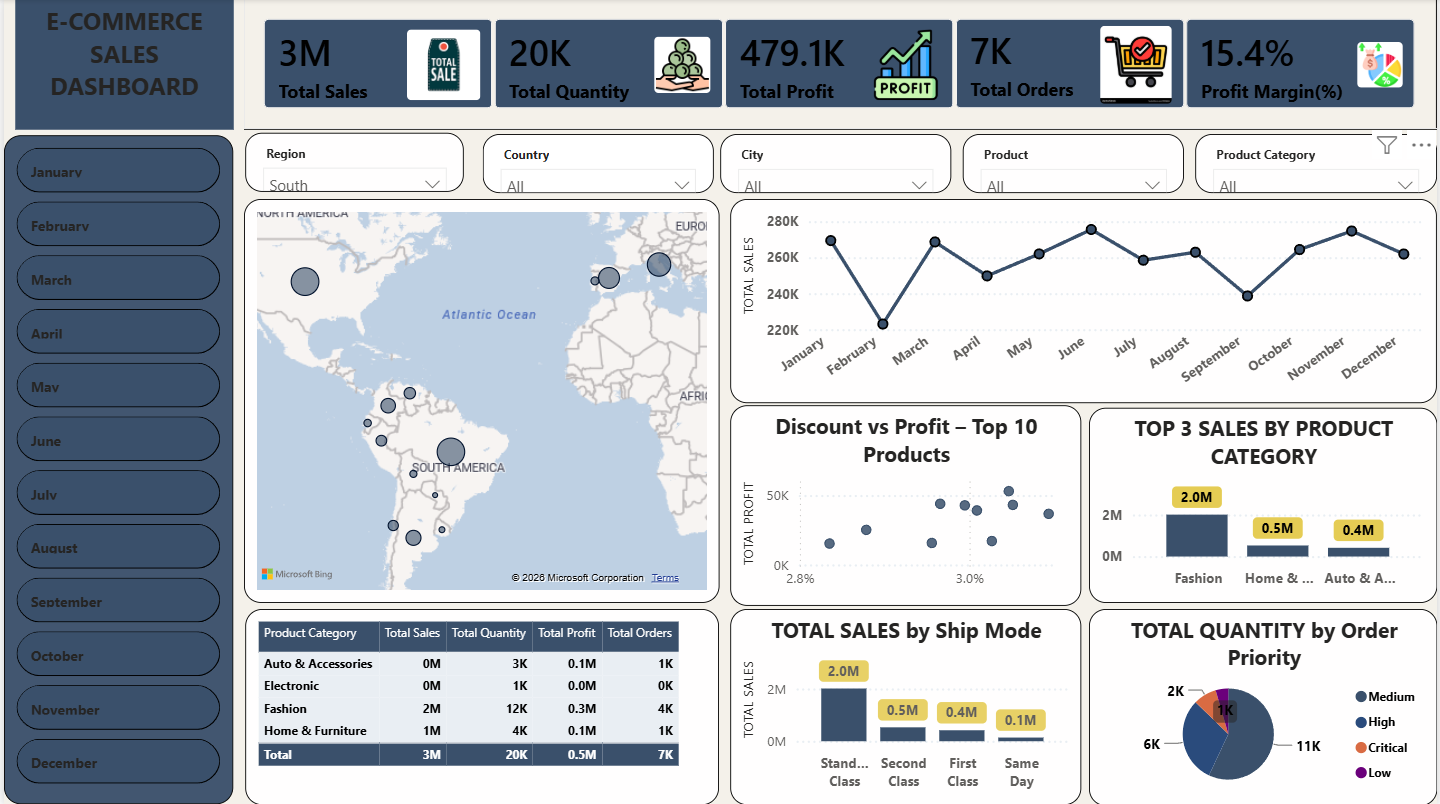

The page's visual inventory and layout, read from the dashboard file:
{"tool":"powerbi","page":{"name":"Page 1","canvas":[1280,720],"ordinal":0},"visuals":[{"type":"textbox","box":[9.6,0,194.9,116.6],"z":0},{"type":"advancedSlicerVisual","fields":{"Values":["E-COMMERCE DATA.Order Date.Variation.Date Hierarchy.Month"]},"box":[0,122.1,204.7,597.7],"z":1000},{"type":"slicer","fields":{"Values":["E-COMMERCE DATA.Region"]},"box":[215.6,120,195.5,53],"z":2000},{"type":"slicer","fields":{"Values":["E-COMMERCE DATA.Country"]},"box":[427.5,120.1,206.2,52.9],"z":3000},{"type":"slicer","fields":{"Values":["E-COMMERCE DATA.City"]},"box":[639.5,120.1,206.1,53],"z":4000},{"type":"slicer","fields":{"Values":["E-COMMERCE DATA.Product"]},"box":[856.2,120.1,197.8,52.9],"z":5000},{"type":"columnChart","fields":{"Category":["E-COMMERCE DATA.Ship Mode"],"Y":["E-COMMERCE DATA.TOTAL SALES"]},"box":[649.2,544.7,313.5,175.5],"z":6000},{"type":"pieChart","fields":{"Category":["E-COMMERCE DATA.Order Priority"],"Y":["E-COMMERCE DATA.TOTAL QUANTITY"]},"box":[968.8,544.8,311.5,175.6],"z":7000},{"type":"lineChart","fields":{"Category":["E-COMMERCE DATA.Order Date.Variation.Date Hierarchy.Month","E-COMMERCE DATA.Order Date.Variation.Date Hierarchy.Day"],"Y":["E-COMMERCE DATA.TOTAL SALES"]},"box":[649.2,178.3,631.1,182.5],"z":8000},{"type":"tableEx","fields":{"Values":["E-COMMERCE DATA.Product Category","E-COMMERCE DATA.TOTAL SALES","E-COMMERCE DATA.TOTAL QUANTITY","E-COMMERCE DATA.TOTAL PROFIT","E-COMMERCE DATA.TOTAL ORDERS"]},"box":[215.9,544.7,423.5,175.5],"z":9000},{"type":"clusteredColumnChart","title":"TOP 3 SALES BY PRODUCT CATEGORY ","fields":{"Category":["E-COMMERCE DATA.Product Category"],"Y":["E-COMMERCE DATA.TOTAL SALES"]},"box":[969.3,365.1,310.9,174.3],"z":10000},{"type":"map","fields":{"Category":["E-COMMERCE DATA.Country"],"Size":["CountNonNull(E-COMMERCE DATA.City)"]},"box":[214.5,178.3,424.9,360.8],"z":12000},{"type":"slicer","fields":{"Values":["E-COMMERCE DATA.Product Category"]},"box":[1064.7,120.1,215.9,52.9],"z":13000},{"type":"scatterChart","title":"Discount vs Profit – Top 10 Products","fields":{"Category":["E-COMMERCE DATA.Product"],"X":["E-COMMERCE DATA.AVERAGE DISCOUNT"],"Y":["E-COMMERCE DATA.TOTAL PROFIT"]},"box":[649,362.8,313.3,179],"z":14000},{"type":"cardVisual","fields":{"Data":["E-COMMERCE DATA.TOTAL SALES","E-COMMERCE DATA.TOTAL QUANTITY","E-COMMERCE DATA.TOTAL PROFIT","E-COMMERCE DATA.TOTAL ORDERS","E-COMMERCE DATA.PROFIT MARGIN %"]},"box":[214.4,0,1065.9,116.6],"z":15000}]}

Visuals, with their boxes in screenshot pixels (x1, y1, x2, y2), scaled from the page's 1280x720 canvas onto the 1440x804 screenshot:
textbox: <region>11, 0, 230, 130</region>
advancedSlicerVisual - E-COMMERCE DATA.Order Date.Variation.Date Hierarchy.Month: <region>0, 136, 230, 803</region>
slicer - E-COMMERCE DATA.Region: <region>243, 134, 462, 193</region>
slicer - E-COMMERCE DATA.Country: <region>481, 134, 713, 193</region>
slicer - E-COMMERCE DATA.City: <region>719, 134, 951, 193</region>
slicer - E-COMMERCE DATA.Product: <region>963, 134, 1186, 193</region>
columnChart - E-COMMERCE DATA.Ship Mode x E-COMMERCE DATA.TOTAL SALES: <region>730, 608, 1083, 803</region>
pieChart - E-COMMERCE DATA.Order Priority x E-COMMERCE DATA.TOTAL QUANTITY: <region>1090, 608, 1439, 803</region>
lineChart - E-COMMERCE DATA.Order Date.Variation.Date Hierarchy.Month x E-COMMERCE DATA.Order Date.Variation.Date Hierarchy.Day: <region>730, 199, 1439, 403</region>
tableEx - E-COMMERCE DATA.Product Category x E-COMMERCE DATA.TOTAL SALES: <region>243, 608, 719, 803</region>
"TOP 3 SALES BY PRODUCT CATEGORY " clusteredColumnChart: <region>1090, 408, 1439, 602</region>
map - E-COMMERCE DATA.Country x CountNonNull(E-COMMERCE DATA.City): <region>241, 199, 719, 602</region>
slicer - E-COMMERCE DATA.Product Category: <region>1198, 134, 1439, 193</region>
"Discount vs Profit – Top 10 Products" scatterChart: <region>730, 405, 1083, 605</region>
cardVisual - E-COMMERCE DATA.TOTAL SALES x E-COMMERCE DATA.TOTAL QUANTITY: <region>241, 0, 1439, 130</region>
